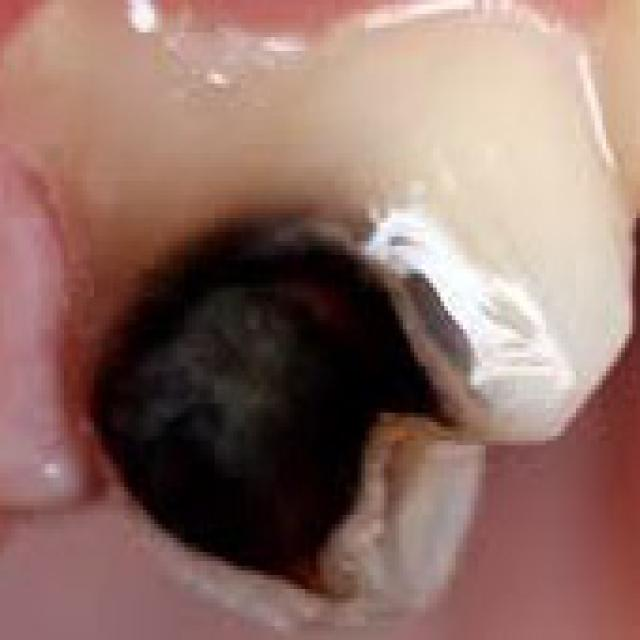Carrier: (72, 173, 464, 608)
